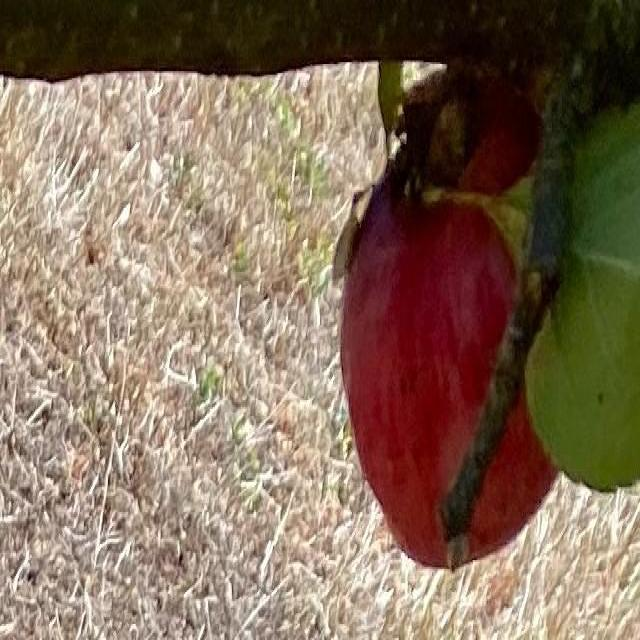Rotten Apple: (341, 96, 563, 567)
